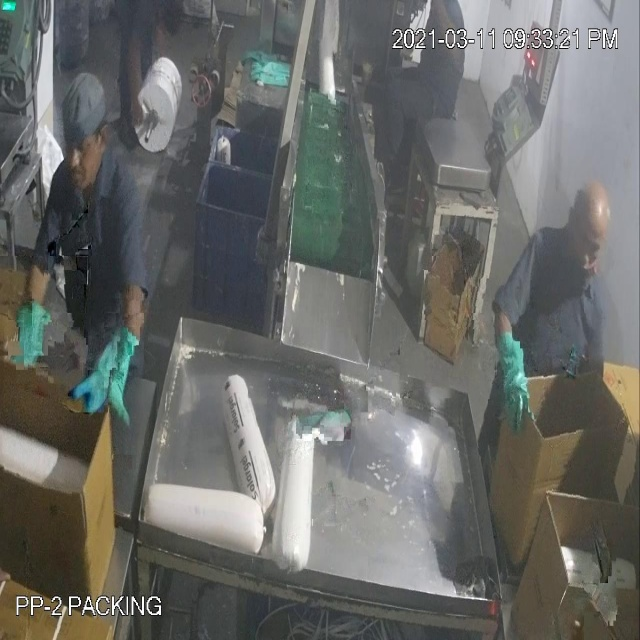Guantes: (79, 316, 144, 436), (490, 316, 542, 443)
Sin_guantes: (122, 31, 150, 140)
